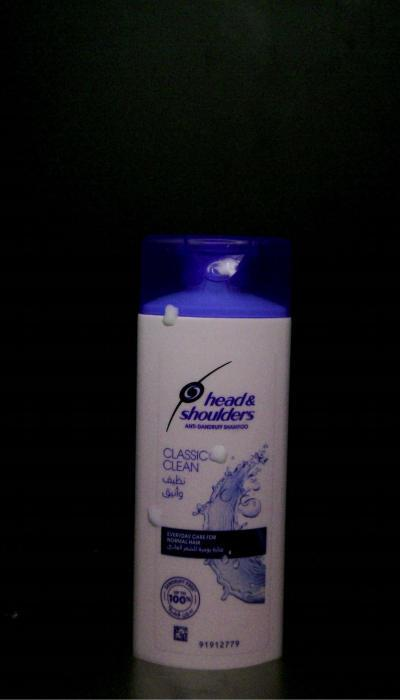pob_unacc: (202, 256, 252, 283), (158, 294, 186, 332), (144, 501, 169, 527), (214, 439, 236, 467)
